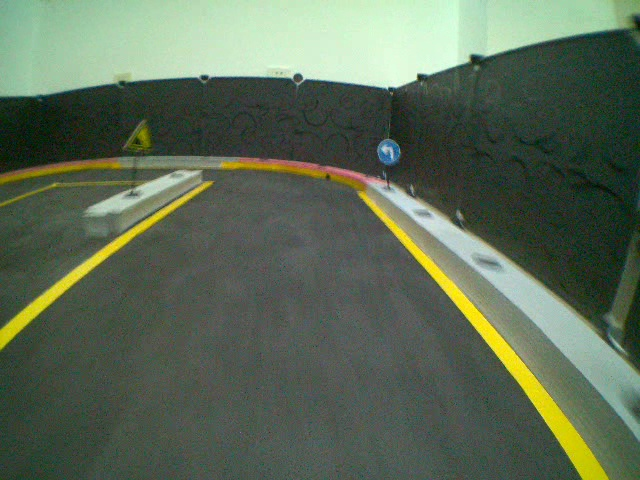fast: (123, 117, 155, 156)
turn: (376, 138, 402, 165)
